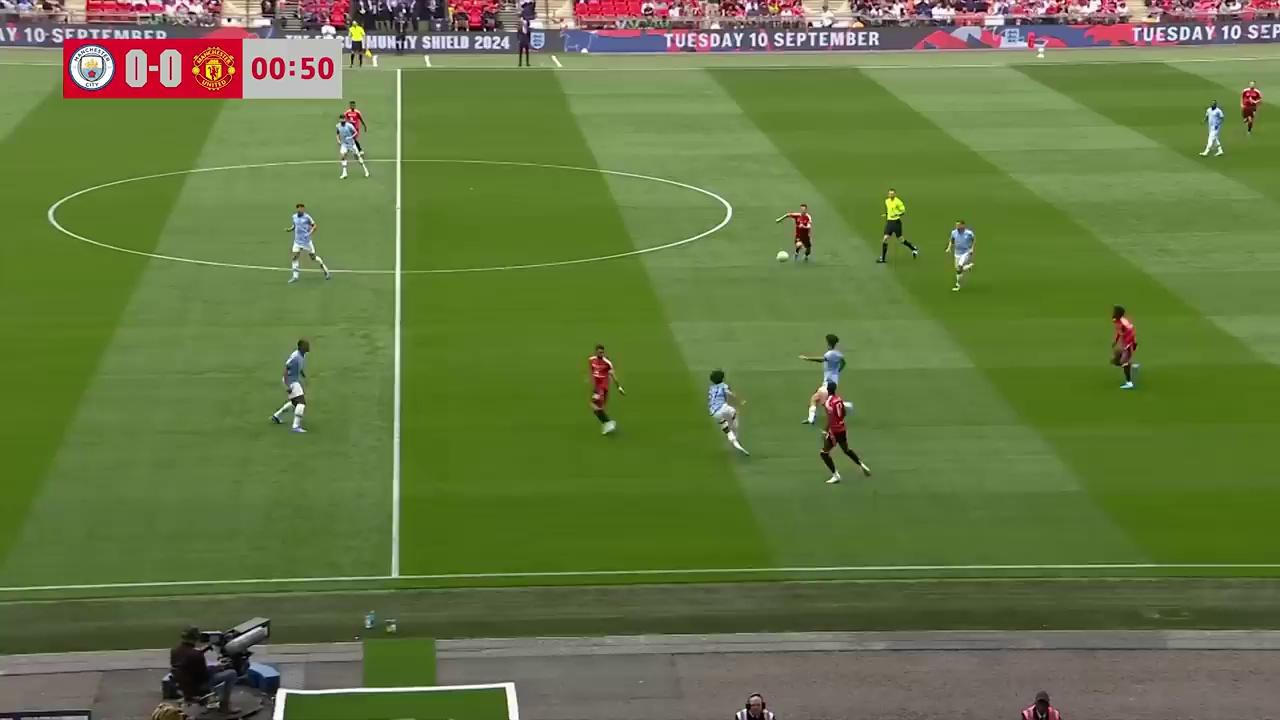ball: (775, 247, 789, 262)
player: (810, 385, 872, 482), (269, 338, 311, 432), (707, 369, 749, 456), (285, 202, 329, 284), (586, 344, 625, 436), (802, 333, 846, 410), (1111, 306, 1139, 389), (776, 203, 813, 263), (945, 219, 975, 290), (1201, 100, 1226, 157), (335, 116, 357, 179), (1239, 80, 1263, 135), (343, 99, 363, 161)
referee: (875, 188, 919, 264), (347, 20, 367, 71)
